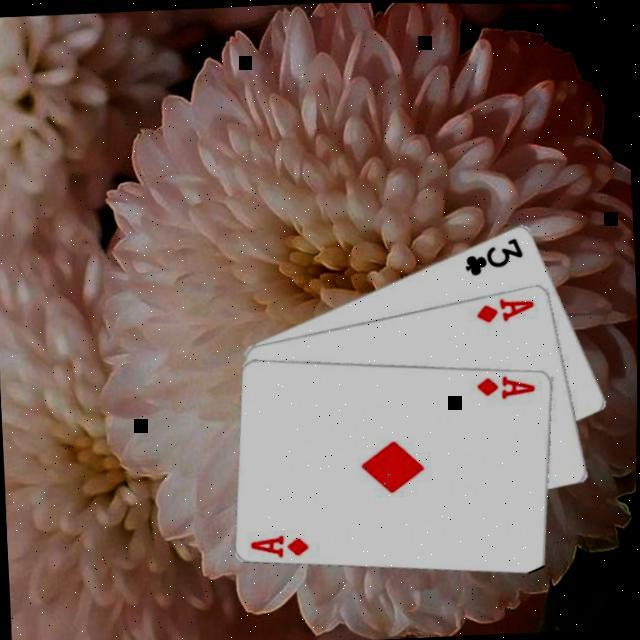3C: (460, 234, 526, 279)
AD: (472, 294, 538, 325), (474, 371, 538, 402), (248, 530, 312, 560)
